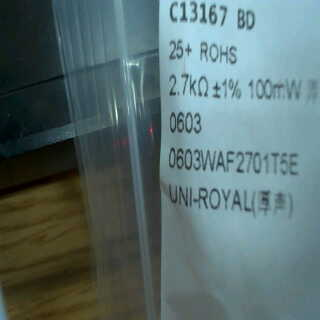2.7kR: (162, 69, 210, 106)
